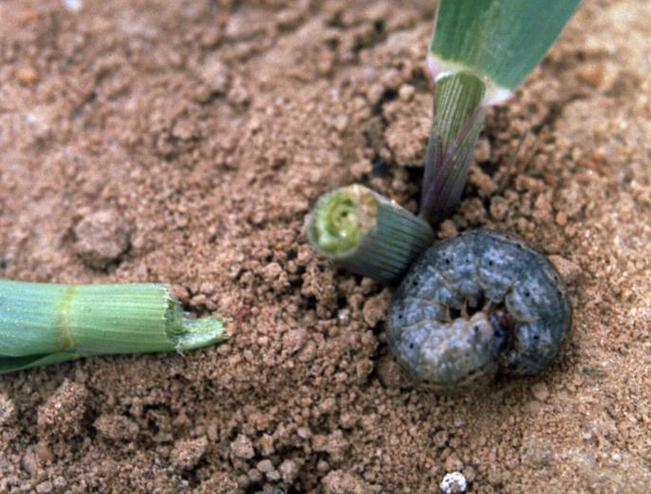caterpillars: (360, 204, 611, 419)
